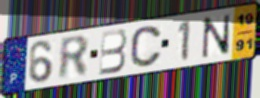1: (177, 19, 192, 62)
6: (27, 39, 56, 87)
B: (98, 27, 129, 77)
C: (129, 25, 164, 69)
N: (201, 13, 232, 60)
R: (57, 34, 91, 83)
